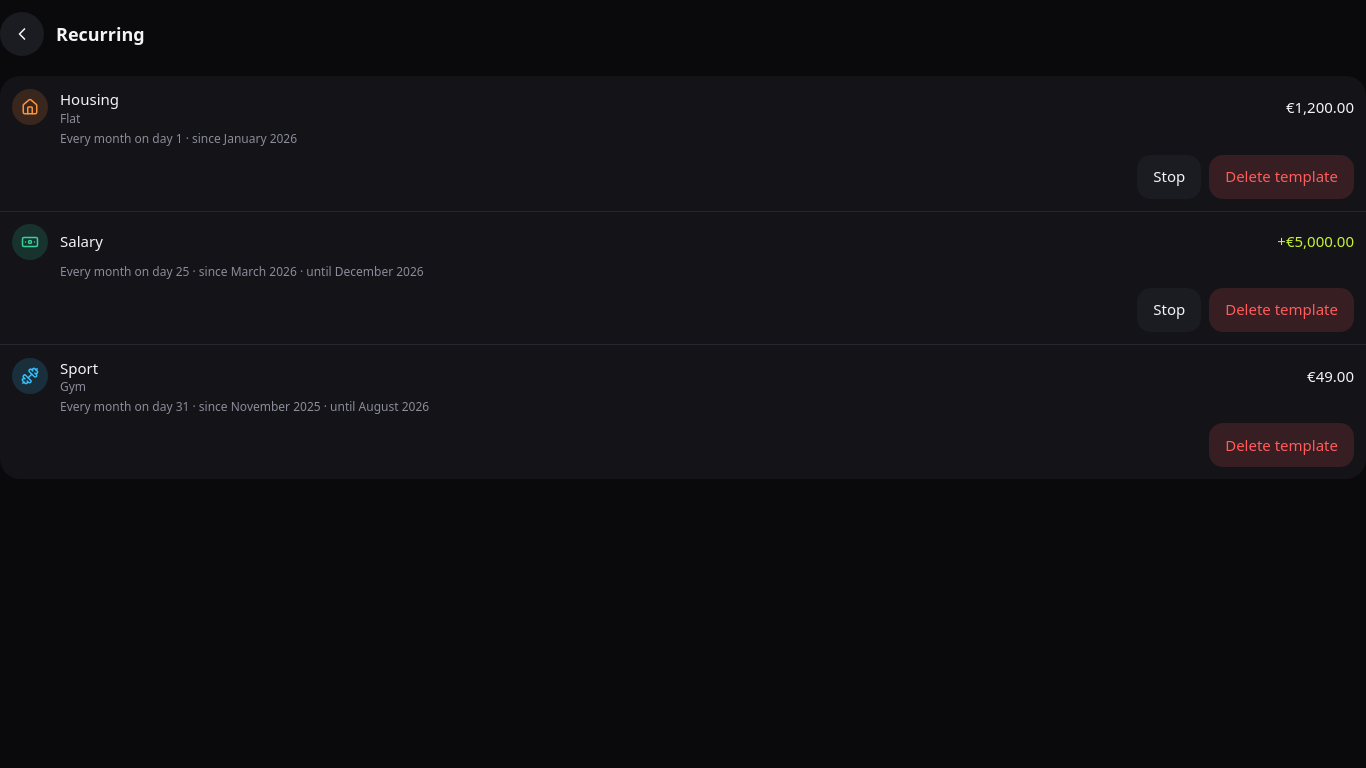
Test: RecurringPage › Undo writes the template back exactly as it was, once
This screenshot has width=1366, height=768.
Click the button with aria-label "Delete template Salary" at (1282, 310), box [1209,288,1354,332]
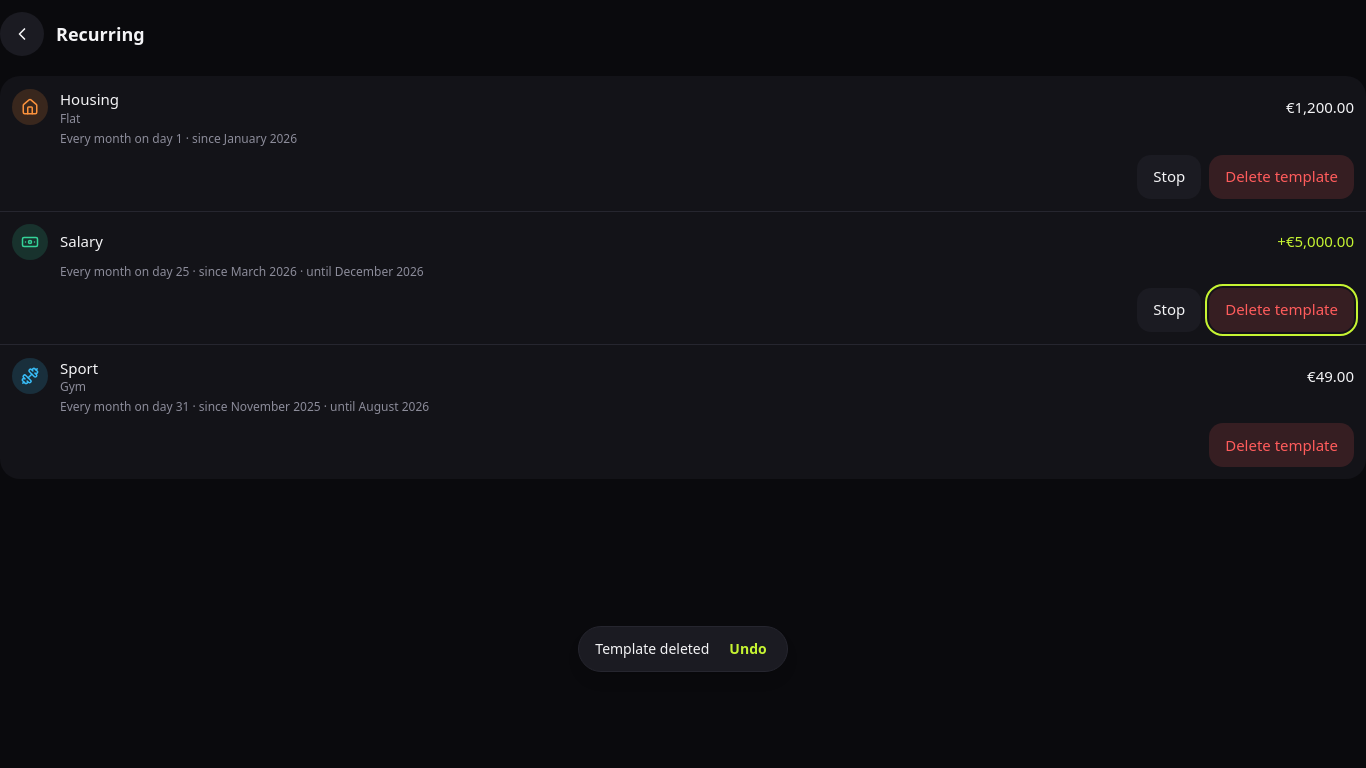
Click the button "Undo" at (748, 649), box [713,627,783,671]
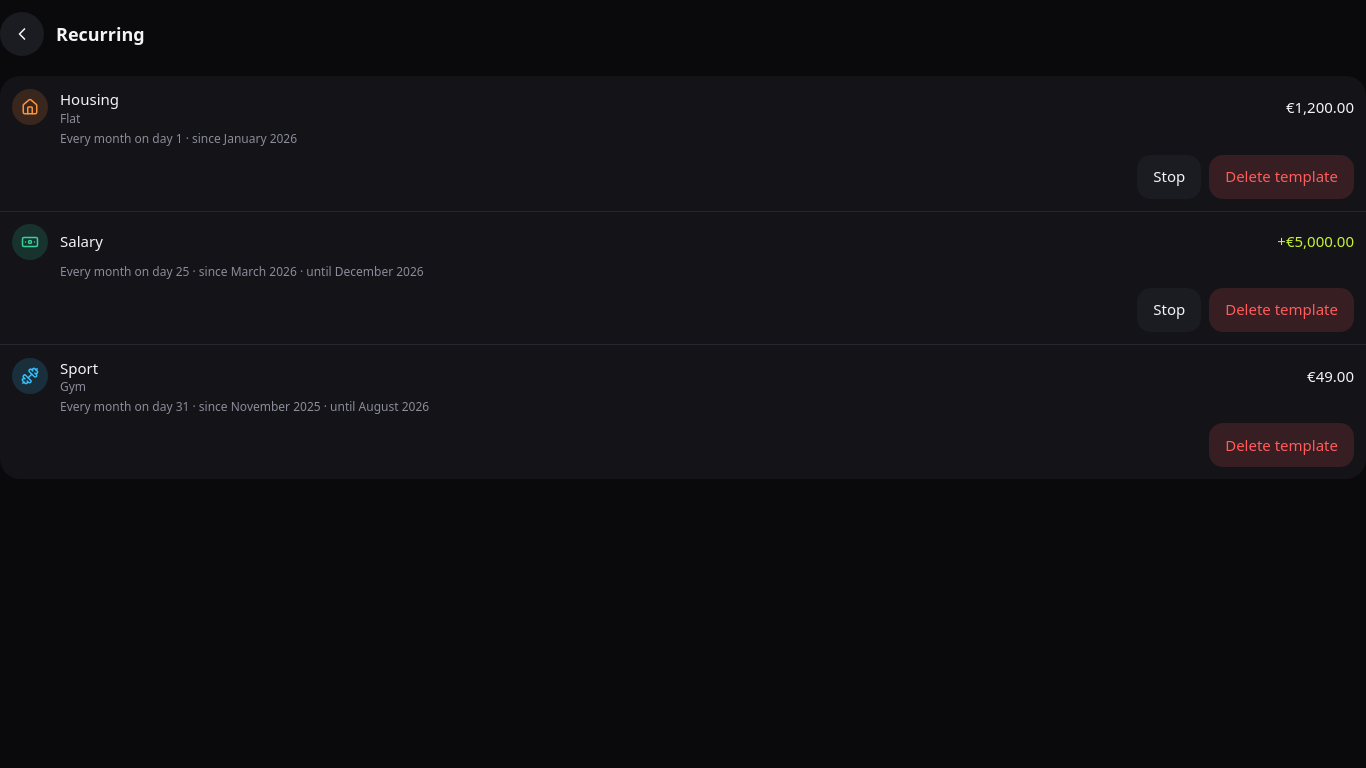
Now the button "Undo" is gone
